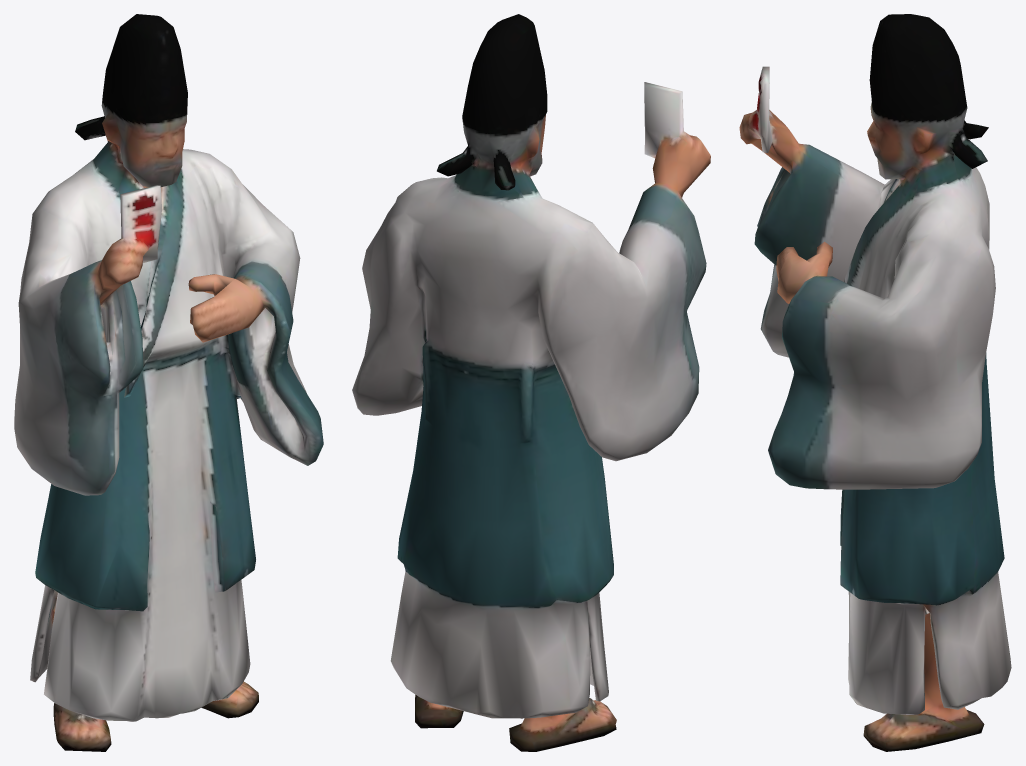
The model's file is detail_6_lo2.glb.
The picture shows the model from 3 angles, left to right: view 1: azimuth 30°, elevation 25°; view 2: azimuth 150°, elevation 25°; view 3: azimuth 270°, elevation 25°; orthographic projection.
Parts seen in each view (by area): view 1: Mesh_0.001; view 2: Mesh_0.001; view 3: Mesh_0.001.
Part boxes in pixels (left/top/right/bottom): Mesh_0.001: left=14, top=14, right=323, bottom=751; Mesh_0.001: left=352, top=14, right=710, bottom=751; Mesh_0.001: left=739, top=14, right=1011, bottom=751.
Size of the model in its own units: 0.4191 by 1.01 by 0.3595.
Materials: 1 (1 with a texture image).
